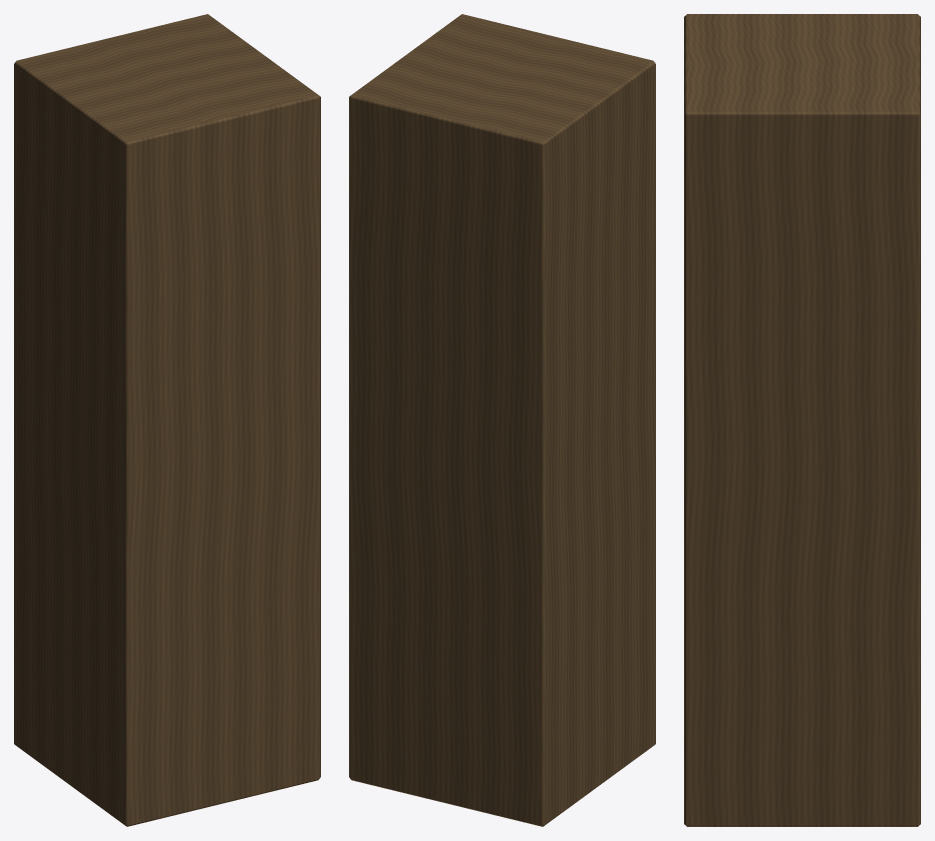
The model's file is pillar.glb.
3 renders of one model, left to right at view 1: azimuth 30°, elevation 25°; view 2: azimuth 150°, elevation 25°; view 3: azimuth 270°, elevation 25°, orthographic. The views are drawn at different scales.
Visible parts, largest first — view 1: pillar; view 2: pillar; view 3: pillar.
Boxes of the visible parts, <box> form: pillar: <box>14,14,320,826</box>; pillar: <box>349,14,655,826</box>; pillar: <box>684,14,920,826</box>.
Size of the model in its own units: 0.3 by 1 by 0.3.
Materials: 1 (1 with a texture image).
